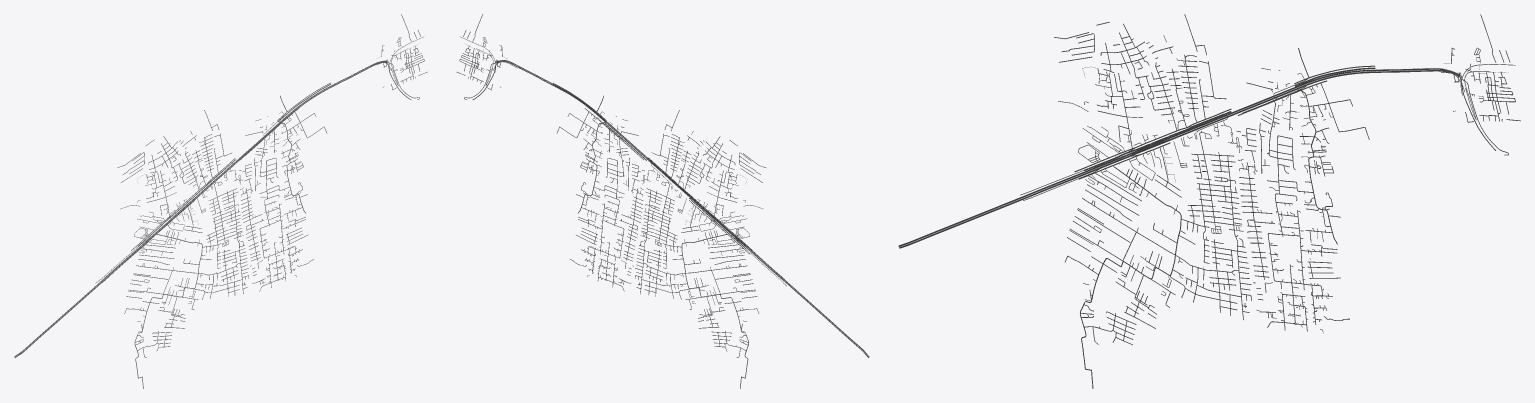
The model's file is roads_0_3.obj.
The picture shows the model from 3 angles, left to right: view 1: azimuth 30°, elevation 25°; view 2: azimuth 150°, elevation 25°; view 3: azimuth 330°, elevation 25°; orthographic projection. The views are drawn at different scales.
Bounding box in the file's own units: 5166 × 3722 × 27.51.
Materials: 5 (5 with a texture image).
